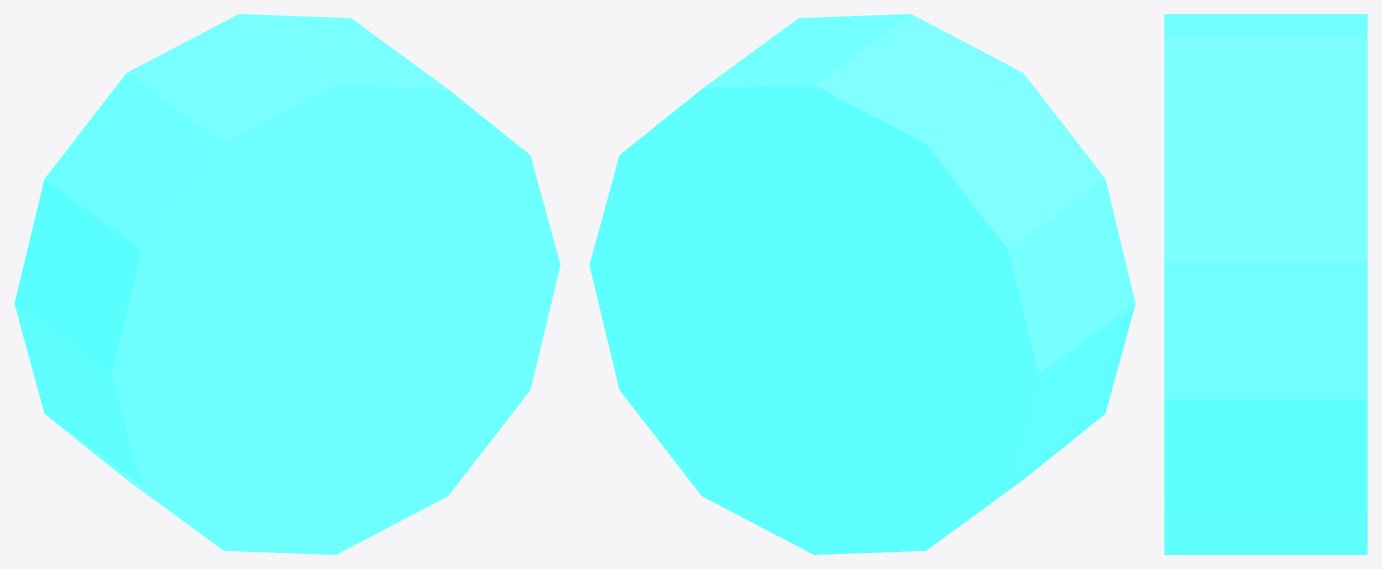
The model's file is lamp_n12_luz_lev5.glb.
3 renders of one model, left to right at view 1: azimuth 30°, elevation 25°; view 2: azimuth 150°, elevation 25°; view 3: azimuth 270°, elevation 25°, orthographic. The views are drawn at different scales.
Parts seen in each view (by area): view 1: lamp_n12_luz_lev5; view 2: lamp_n12_luz_lev5; view 3: lamp_n12_luz_lev5.
Boxes of the visible parts, x1,y1,x2,y2 form: lamp_n12_luz_lev5: [14, 14, 560, 554]; lamp_n12_luz_lev5: [589, 14, 1135, 554]; lamp_n12_luz_lev5: [1164, 14, 1367, 554].
Size of the model in its own units: 0.4 by 0.4 by 0.15.
